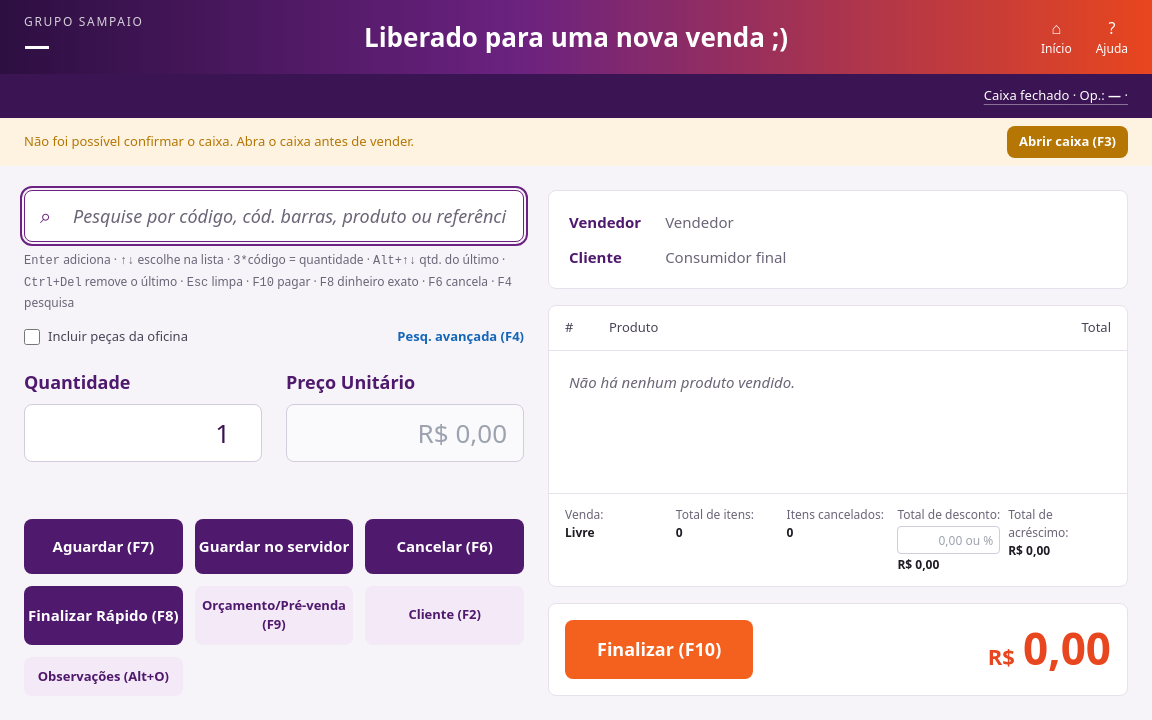
quantidade editável na linha do carrinho › produto serializado não ganha o campo — quantidade ali é o nº de peças escolhidas
Type "7890000002222" into the field labelled "Pesquise por código, cód. barras, produto ou referência". click: (274, 216)
box: [24,190,524,242]
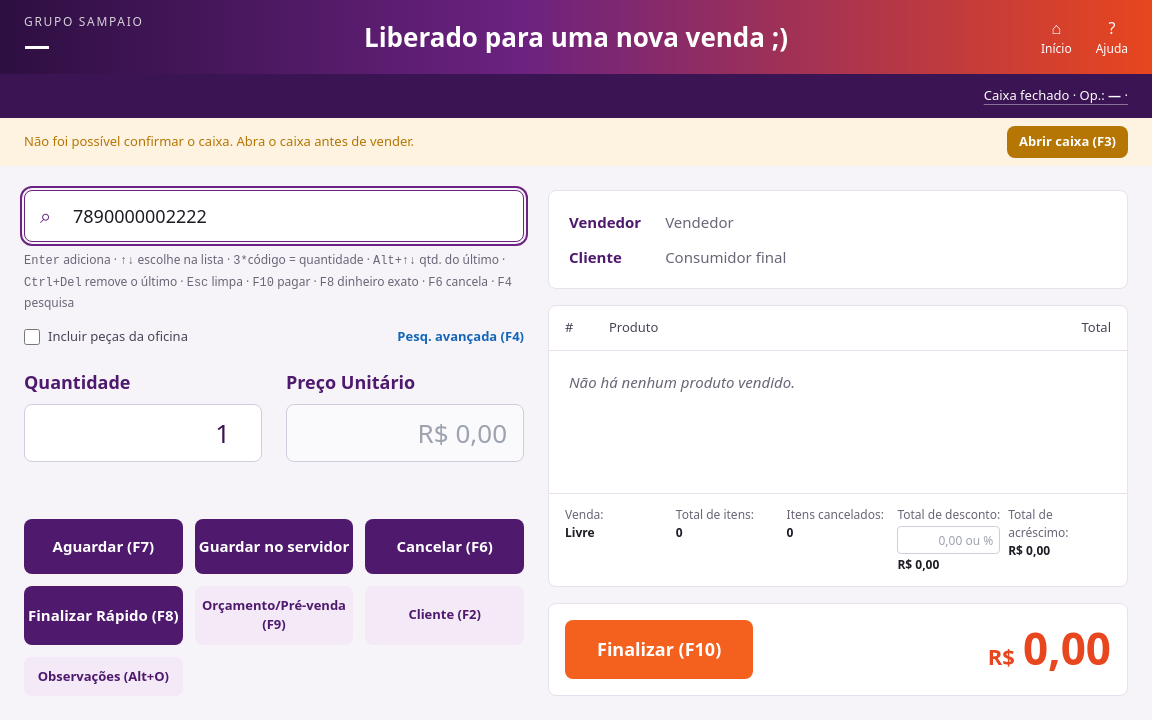
Press Enter in the field named "Pesquise por código", box [24,190,524,242]
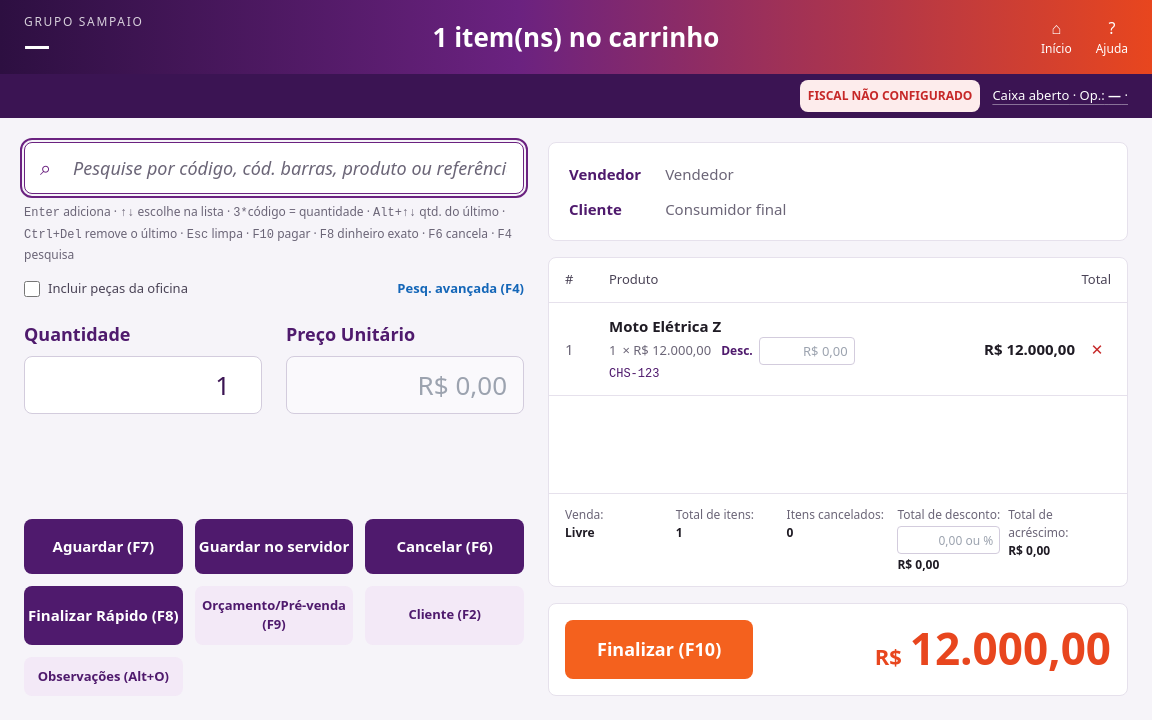
Result: the button named "Remover " is shown at [1083,333,1111,365]
